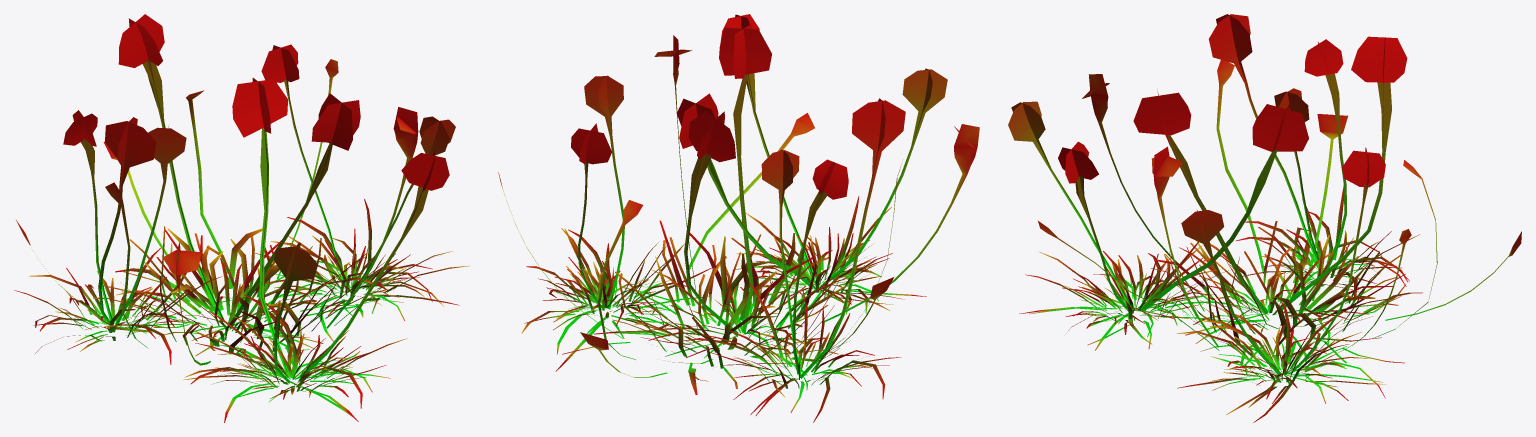
The model's file is Var1_LOD2.fbx.
The picture shows the model from 3 angles, left to right: view 1: azimuth 30°, elevation 25°; view 2: azimuth 150°, elevation 25°; view 3: azimuth 270°, elevation 25°; orthographic projection. The views are drawn at different scales.
Parts seen in each view (by area): view 1: _wchg_Var1_LOD2; view 2: _wchg_Var1_LOD2; view 3: _wchg_Var1_LOD2.
Boxes of the visible parts, box(x1,y1,x2,y2) form: _wchg_Var1_LOD2: box(14, 14, 469, 422); _wchg_Var1_LOD2: box(498, 14, 979, 422); _wchg_Var1_LOD2: box(1008, 14, 1521, 422).
Size of the model in its own units: 30.48 by 22.47 by 36.07.
